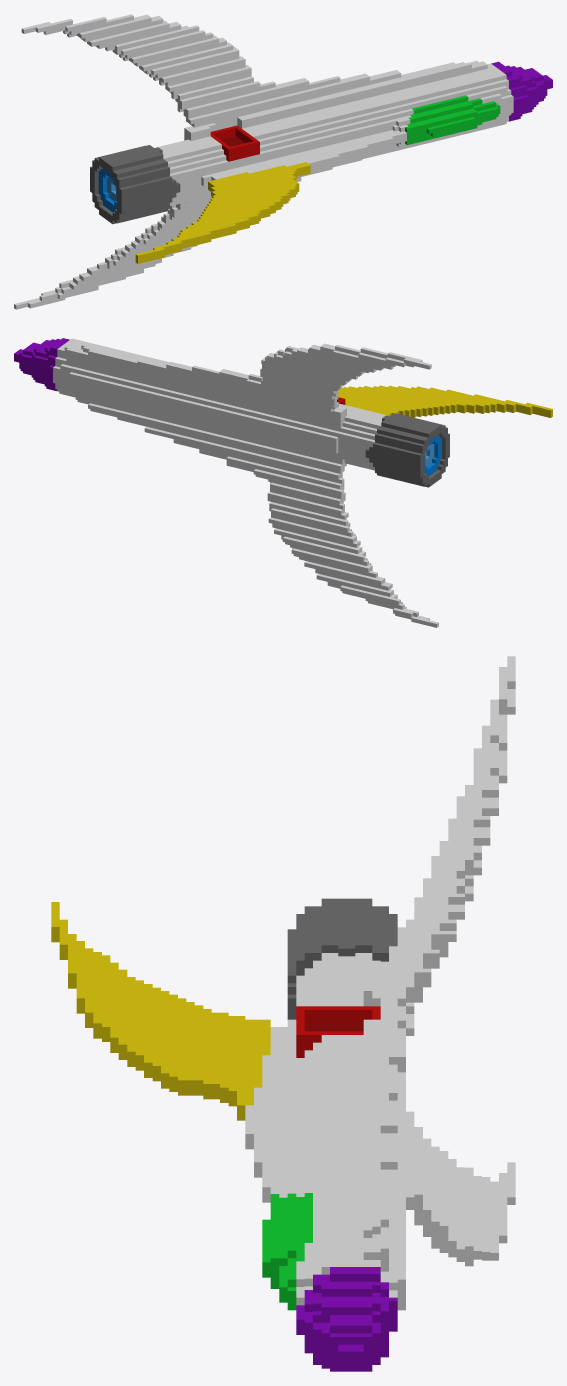
Rendered from shipModel.dae.
The picture shows the model from 3 angles, top to bottom: view 1: azimuth 30°, elevation 25°; view 2: azimuth 150°, elevation 25°; view 3: azimuth 270°, elevation 25°; orthographic projection. The views are drawn at different scales.
Parts seen in each view (by area): view 1: node; view 2: node; view 3: node.
Part boxes in pixels (x1=…): node: x1=14, y1=14, x2=552, y2=309; node: x1=14, y1=338, x2=552, y2=627; node: x1=51, y1=656, x2=515, y2=1371.
Bounding box in the file's own units: 126 × 68 × 55.
